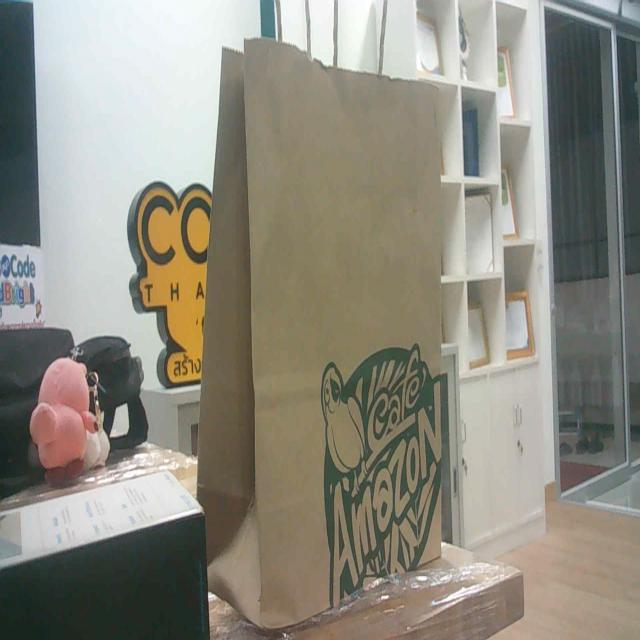bag: (196, 0, 491, 632)
